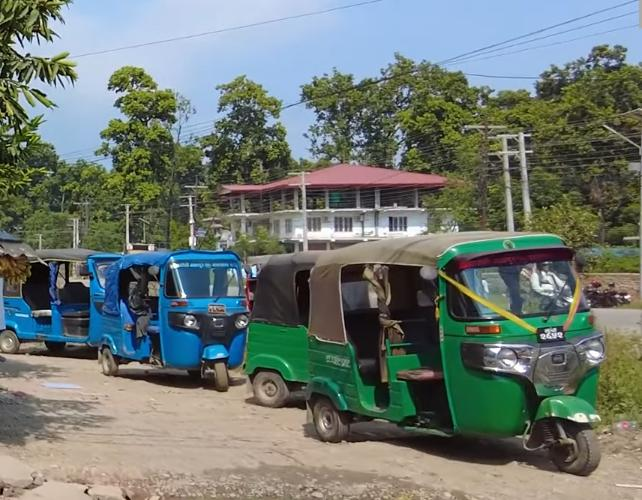auto_rickshaw: (293, 224, 606, 473), (100, 237, 254, 394), (246, 246, 329, 411), (0, 244, 114, 362)
